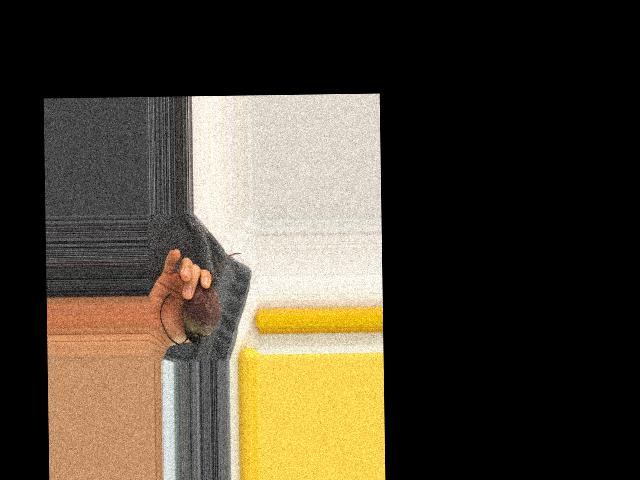beet: (158, 252, 242, 344)
